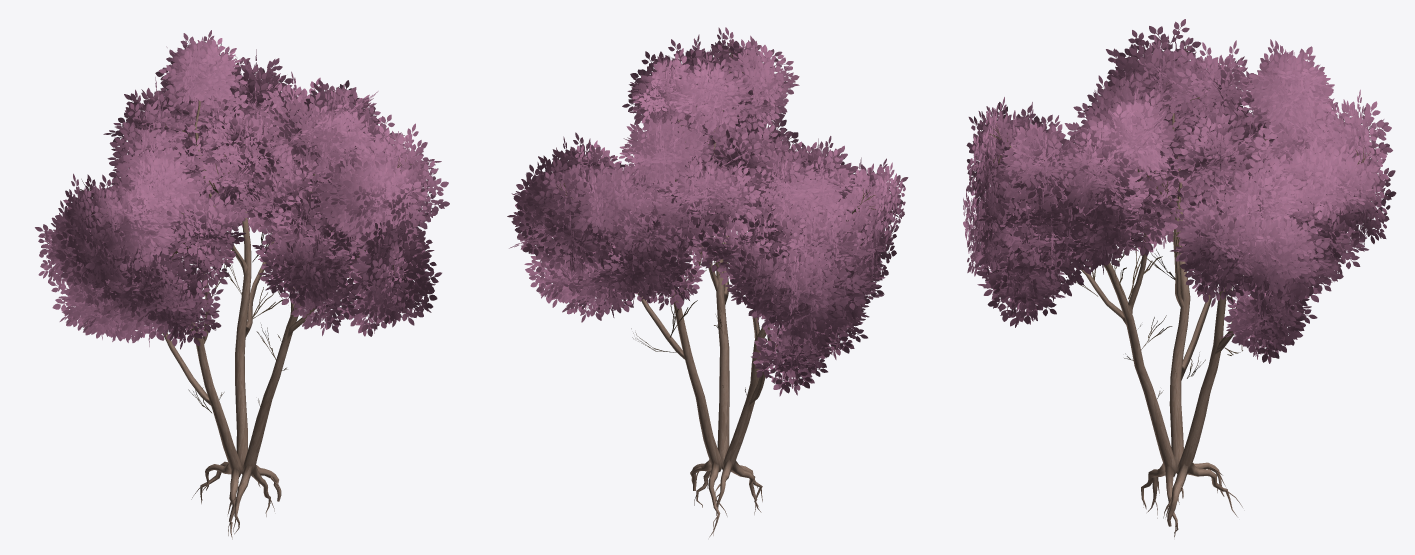
Rendered from fairy_canopy_gloam_2.glb.
3 views of the same model, side by side, from view 1: azimuth 30°, elevation 25°; view 2: azimuth 150°, elevation 25°; view 3: azimuth 270°, elevation 25° (orthographic). The views are drawn at different scales.
Visible parts, largest first — view 1: fairy_canopy_gloam_2; view 2: fairy_canopy_gloam_2; view 3: fairy_canopy_gloam_2.
Part boxes in pixels (x1,y1,x2,y2): fairy_canopy_gloam_2: [35, 30, 449, 539]; fairy_canopy_gloam_2: [507, 27, 908, 537]; fairy_canopy_gloam_2: [963, 19, 1396, 537].
Bounding box in the file's own units: 7.61 × 9.64 × 7.62.
Materials: 2 (2 with a texture image).
